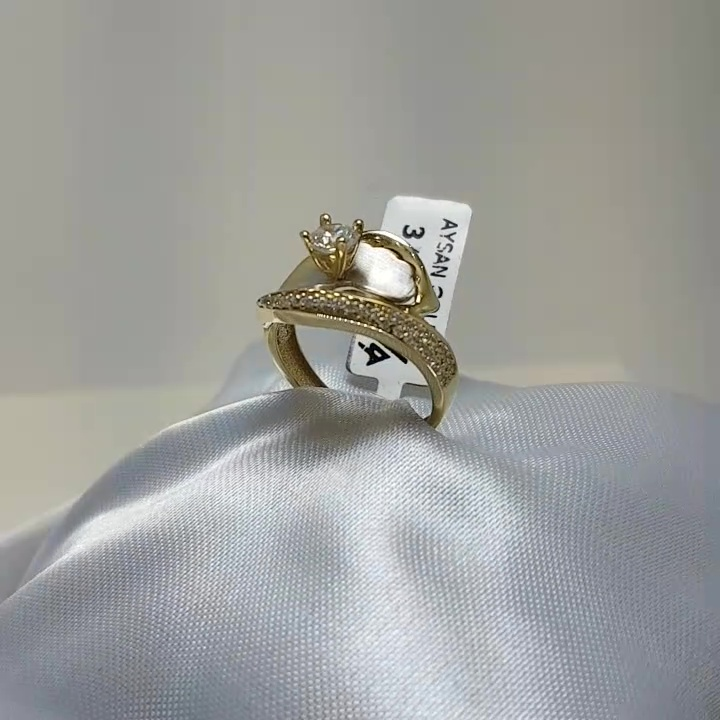Ring 6: (254, 183, 462, 451)
